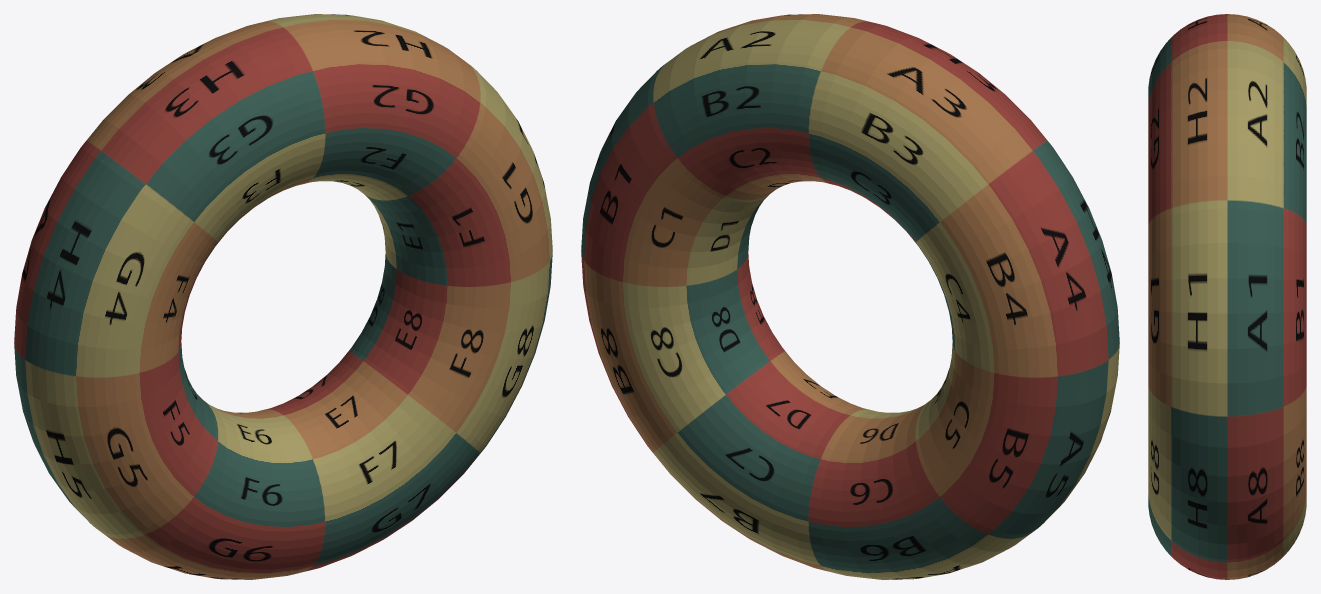
File: texture_torus_R5_r12.glb
3 views of the same model, side by side, from view 1: azimuth 30°, elevation 25°; view 2: azimuth 150°, elevation 25°; view 3: azimuth 270°, elevation 25° (orthographic). The views are drawn at different scales.
Parts seen in each view (by area): view 1: world; view 2: world; view 3: world.
Part boxes in pixels (x1,y1,x2,y2): world: [14, 14, 552, 579]; world: [581, 14, 1119, 579]; world: [1148, 14, 1306, 579].
Bounding box in the file's own units: 18.53 × 18.5 × 5.19.
Materials: 1 (1 with a texture image).
